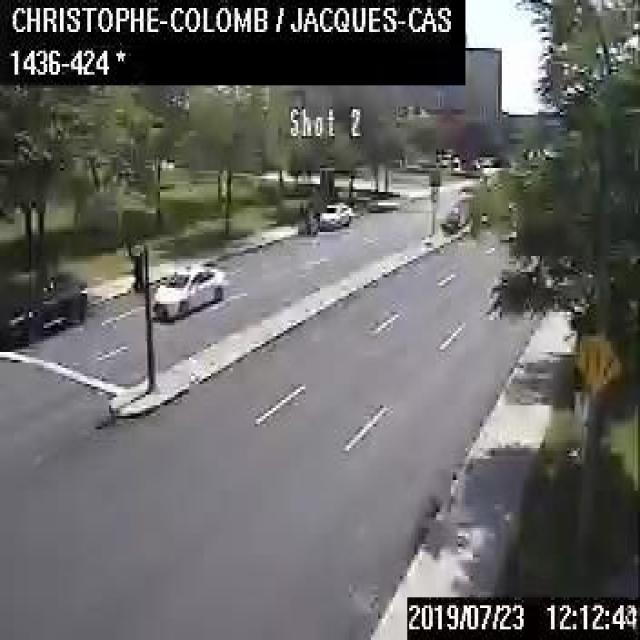vehicle: (0, 272, 85, 344), (151, 262, 225, 318), (317, 197, 353, 227)
